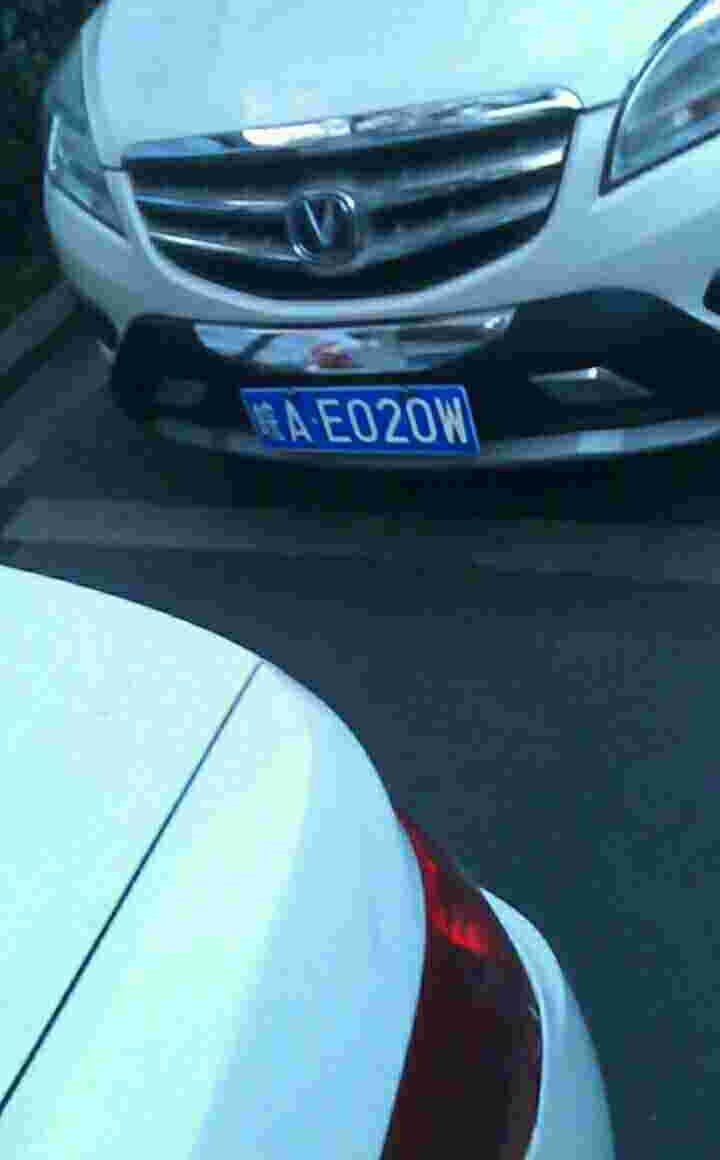car: (242, 383, 486, 456)
